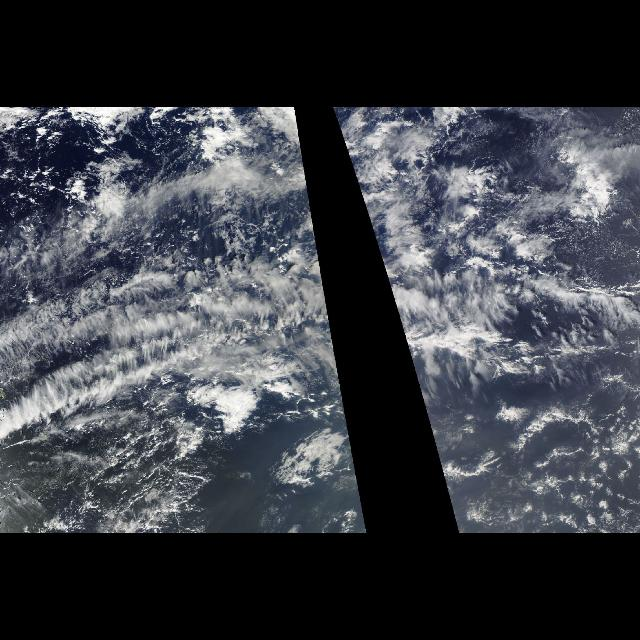Fish: (0, 202, 354, 452), (364, 202, 640, 452)
Gravel: (10, 116, 166, 232), (492, 408, 636, 528)
